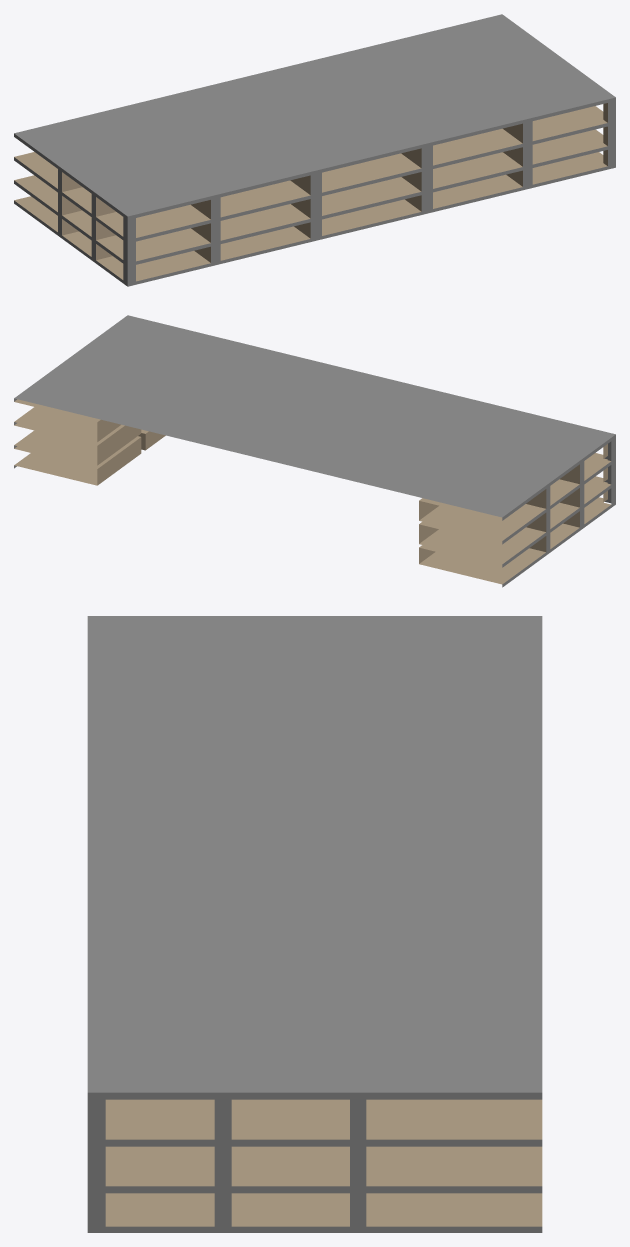
File: Export_Building.fbx
3 views of the same model, one above another, from view 1: azimuth 30°, elevation 25°; view 2: azimuth 150°, elevation 25°; view 3: azimuth 270°, elevation 25° (orthographic). The views are drawn at different scales.
Parts seen in each view (by area): view 1: polySurface3; view 2: polySurface3; view 3: polySurface3.
Boxes of the visible parts, x1,y1,x2,y2 form: polySurface3: [14, 14, 615, 286]; polySurface3: [14, 315, 615, 587]; polySurface3: [87, 616, 542, 1232].
Bounding box in the file's own units: 728 × 100 × 294.
